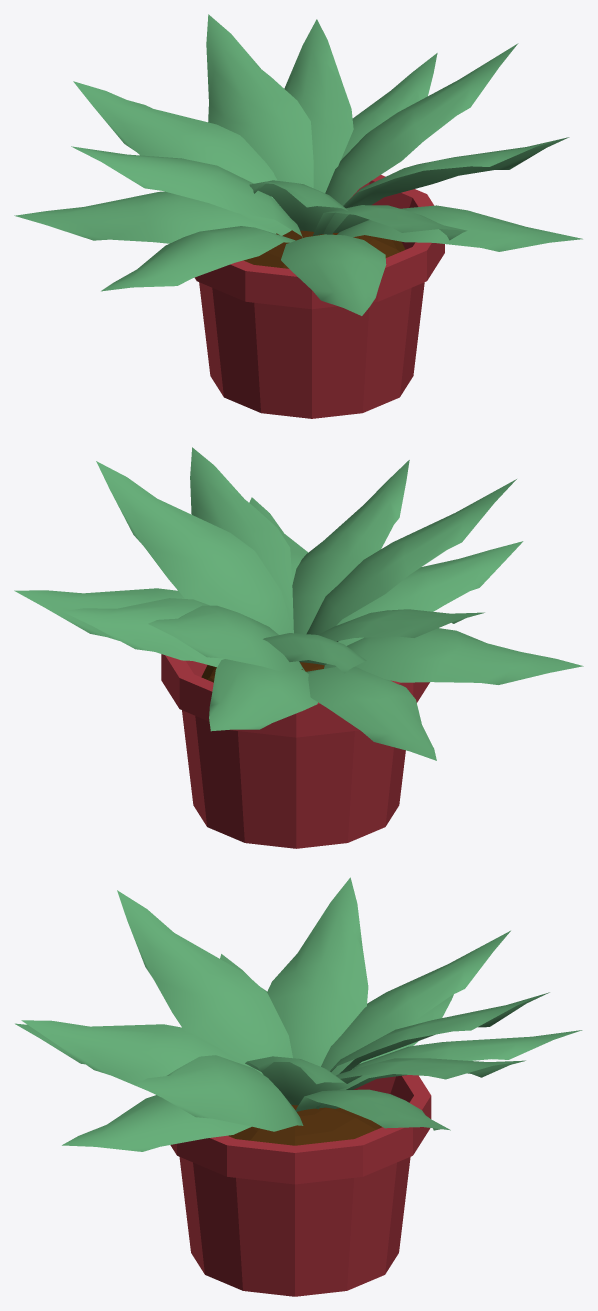
The model's file is msh_plants_07.fbx.
3 renders of one model, top to bottom at view 1: azimuth 30°, elevation 25°; view 2: azimuth 150°, elevation 25°; view 3: azimuth 270°, elevation 25°, orthographic. The views are drawn at different scales.
Parts seen in each view (by area): view 1: pCylinder12, pPlane81, pPlane80, pPlane85, pPlane83, pPlane79, pPlane87, pPlane89, pPlane84, pPlane88, pPlane76, pPlane78 (+3 smaller); view 2: pCylinder12, pPlane83, pPlane84, pPlane78, pPlane77, pPlane85, pPlane86, pPlane76, pPlane81, pPlane89, pPlane87, pPlane82 (+3 smaller); view 3: pCylinder12, pPlane78, pPlane79, pPlane77, pPlane76, pPlane80, pPlane88, pPlane86, pSphere14, pPlane82, pPlane81, pPlane87 (+2 smaller).
Boxes of the visible parts, bbox=[...] form: pCylinder12: bbox=[194, 175, 444, 418]; pPlane81: bbox=[206, 14, 313, 188]; pPlane80: bbox=[73, 81, 291, 235]; pPlane85: bbox=[14, 191, 276, 243]; pPlane83: bbox=[325, 43, 518, 205]; pPlane79: bbox=[71, 146, 302, 237]; pPlane87: bbox=[284, 19, 353, 193]; pPlane89: bbox=[281, 234, 386, 315]; pPlane84: bbox=[101, 226, 295, 291]; pPlane88: bbox=[337, 205, 582, 251]; pPlane76: bbox=[343, 137, 569, 208]; pPlane78: bbox=[249, 180, 348, 234]; pCylinder12: bbox=[161, 654, 429, 848]; pPlane83: bbox=[96, 461, 292, 634]; pPlane84: bbox=[324, 628, 583, 684]; pPlane78: bbox=[306, 479, 516, 634]; pPlane77: bbox=[292, 460, 409, 633]; pPlane85: bbox=[306, 667, 436, 760]; pPlane86: bbox=[209, 659, 317, 731]; pPlane76: bbox=[190, 447, 293, 633]; pPlane81: bbox=[148, 605, 304, 671]; pPlane89: bbox=[336, 541, 523, 645]; pPlane87: bbox=[62, 598, 224, 667]; pPlane82: bbox=[14, 588, 191, 660]; pCylinder12: bbox=[170, 1075, 431, 1296]; pPlane78: bbox=[117, 890, 292, 1074]; pPlane79: bbox=[267, 877, 368, 1066]; pPlane77: bbox=[21, 1020, 241, 1090]; pPlane76: bbox=[136, 1055, 303, 1131]; pPlane80: bbox=[321, 930, 510, 1075]; pPlane88: bbox=[62, 1095, 251, 1151]; pPlane86: bbox=[340, 1030, 582, 1089]; pSphere14: bbox=[228, 1105, 382, 1145]; pPlane82: bbox=[295, 1089, 450, 1130]; pPlane81: bbox=[330, 992, 549, 1073]; pPlane87: bbox=[313, 1058, 525, 1093].
Bounding box in the file's own units: 1.26 × 0.7788 × 1.35.
